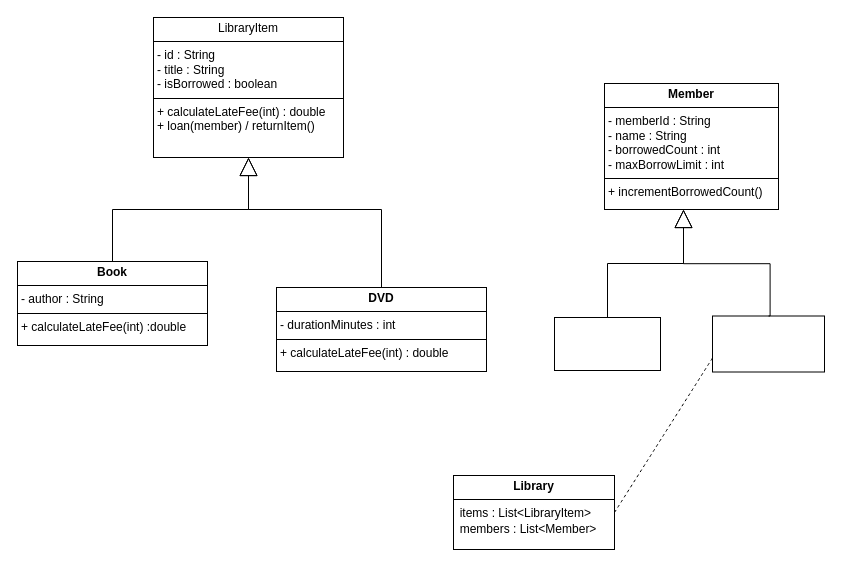
Some shapes in this 842 by 567 pixel diagram are drawn without their labels. Each missing label, with the centre of its shape:
"Staff limit = 10" goes at (768,343).
"Student limit = 3" goes at (607,343).
